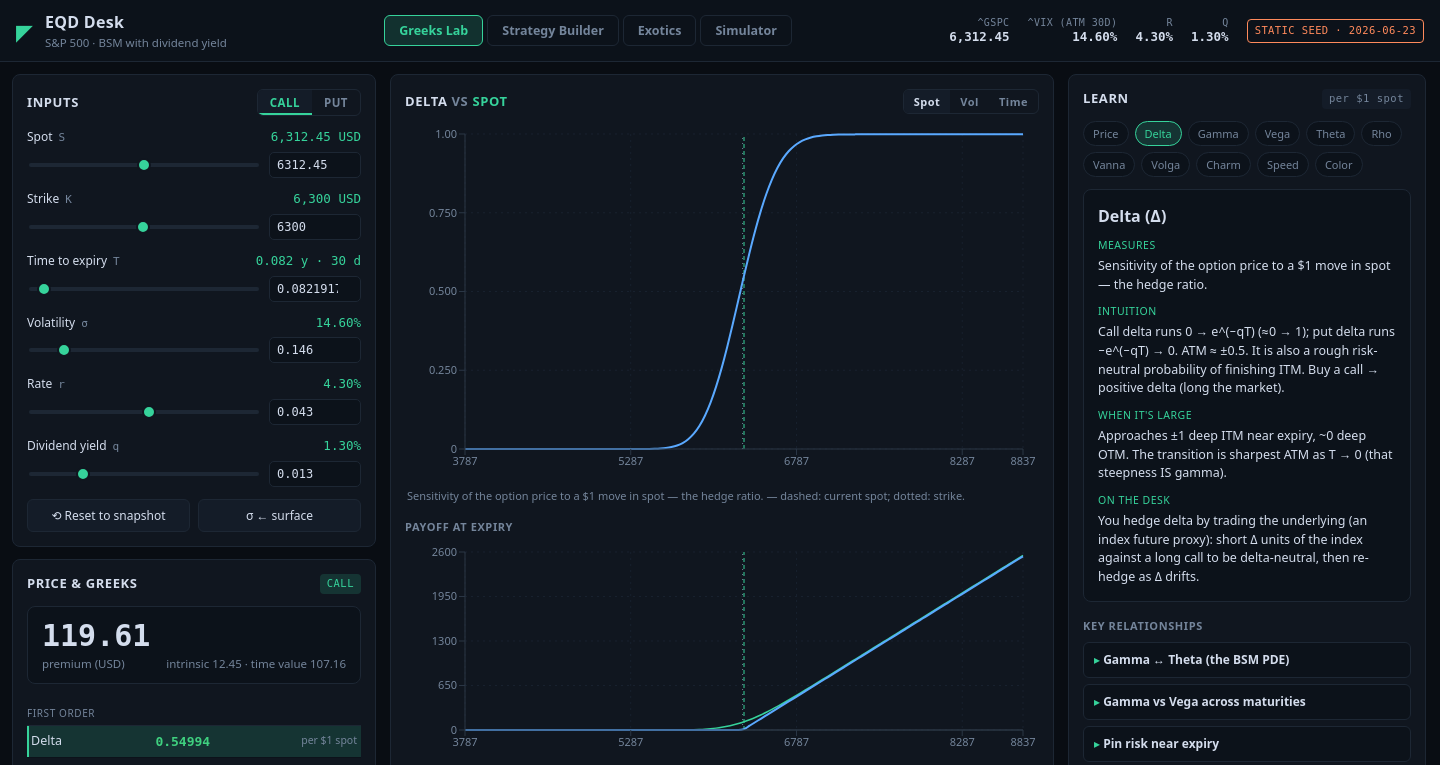
App (Greeks Lab) smoke test › switches the simulator to historical replay mode
Step 1. Click the button "Simulator" → (746, 31), box [700, 15, 792, 46]
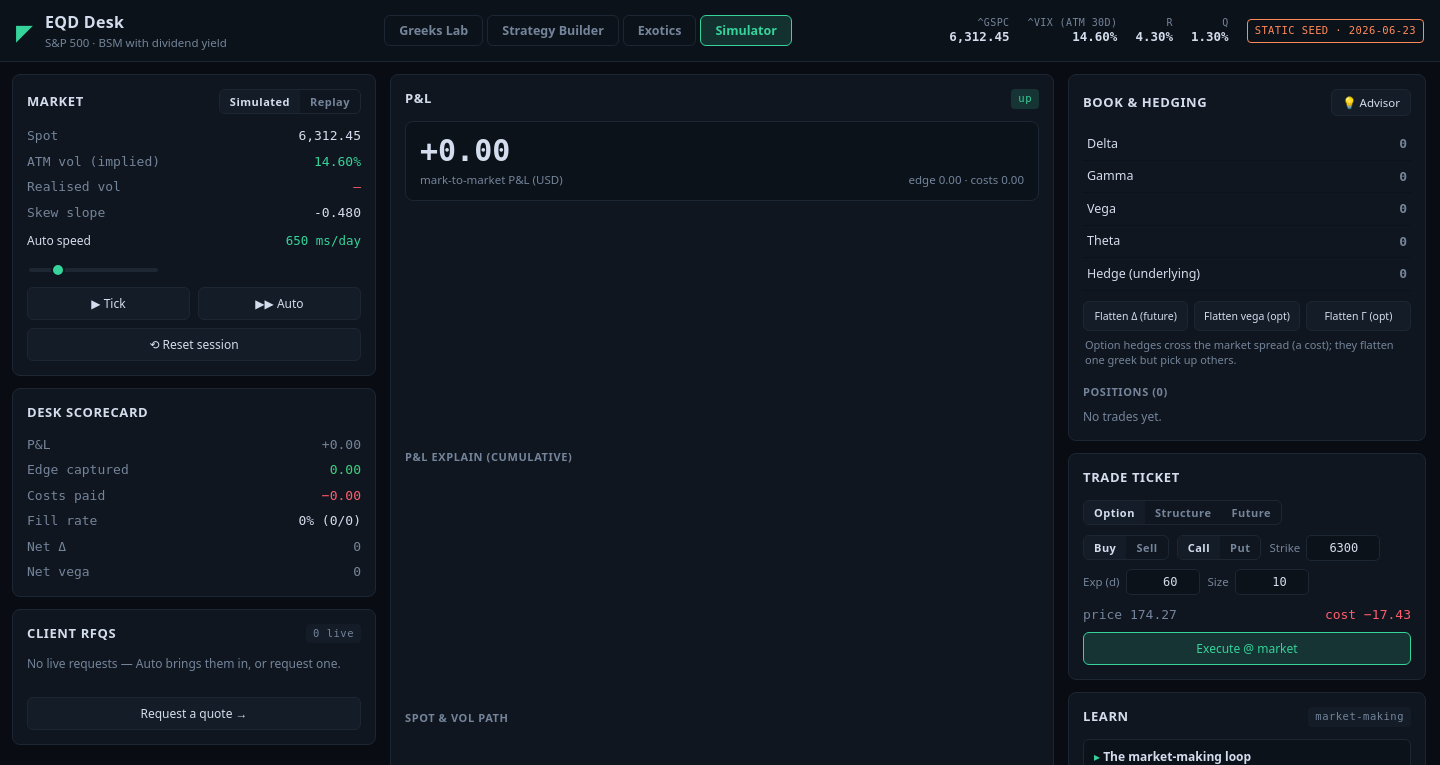
Step 2. Click the button "Replay" → (330, 102), box [300, 90, 360, 113]
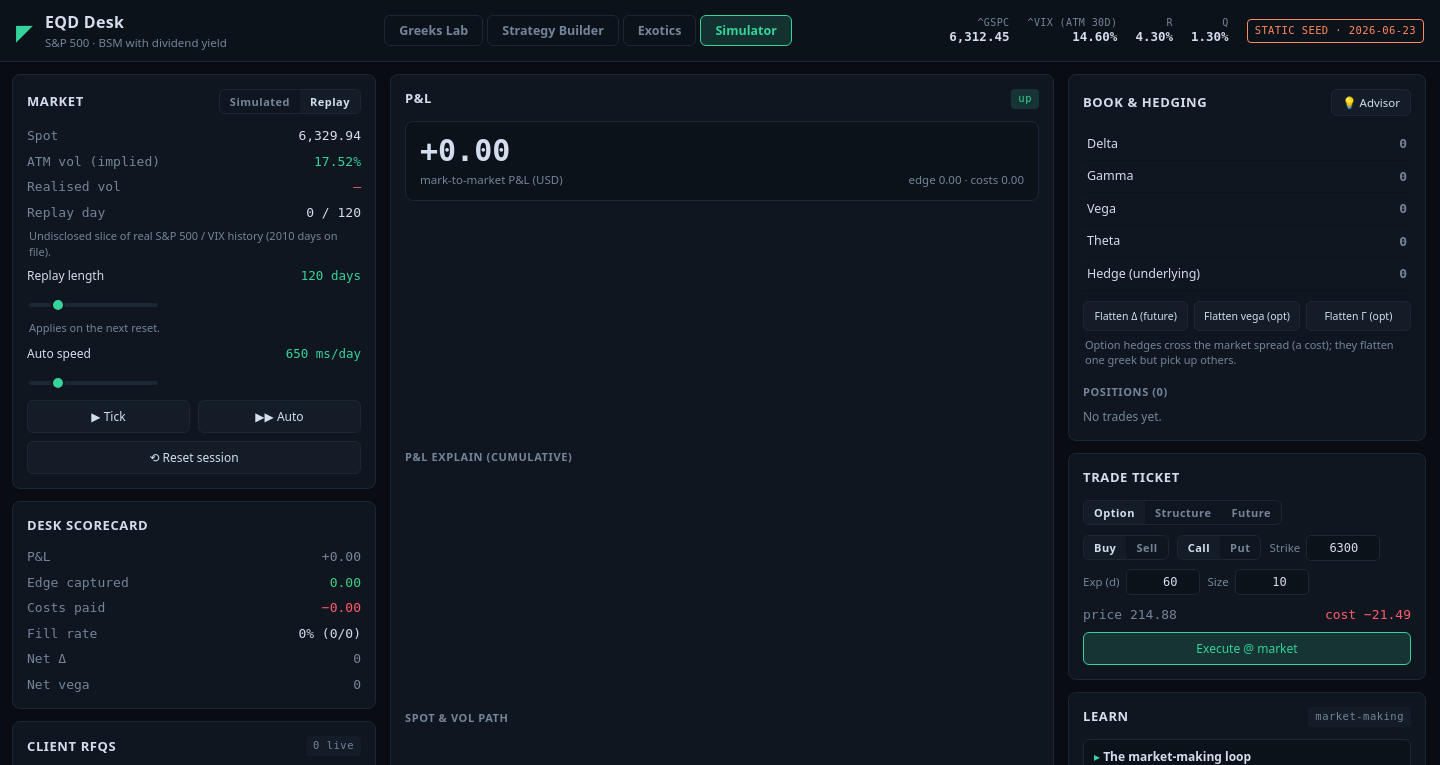
Check: the text "Undisclosed slice" is shown, box [29, 228, 269, 243]
